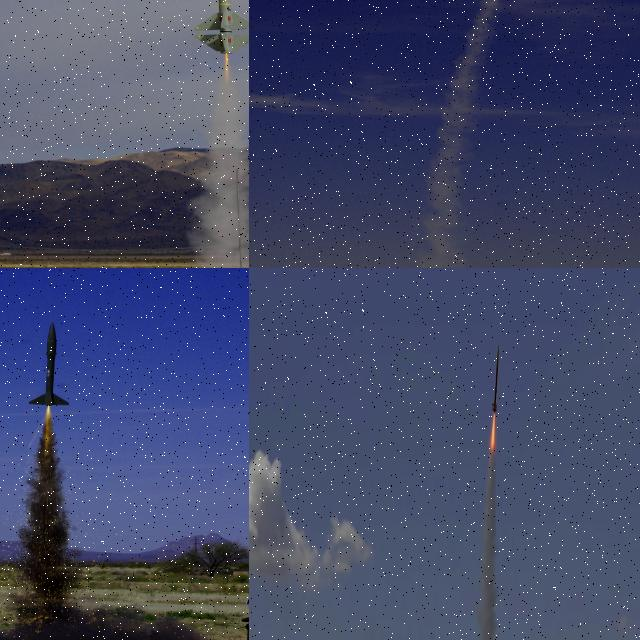Rocket: (29, 322, 70, 406), (492, 344, 498, 414), (244, 542, 249, 605)
